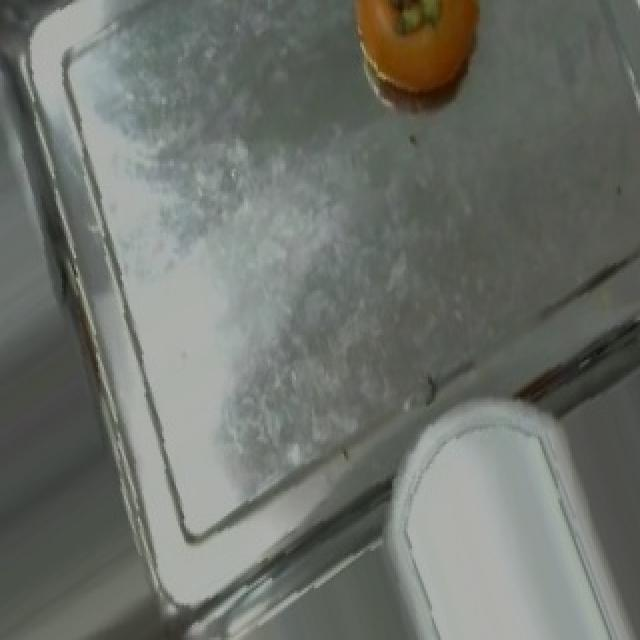Fruit: (334, 3, 510, 114)
